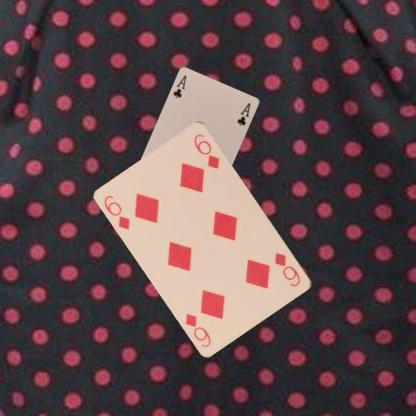6d: (272, 250, 302, 289), (102, 193, 132, 231)
Ac: (170, 73, 188, 100)
